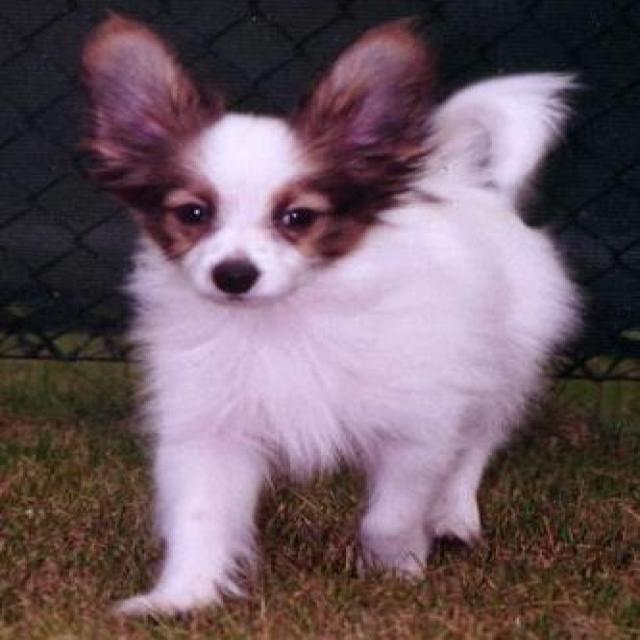papillon: (75, 21, 586, 618)
